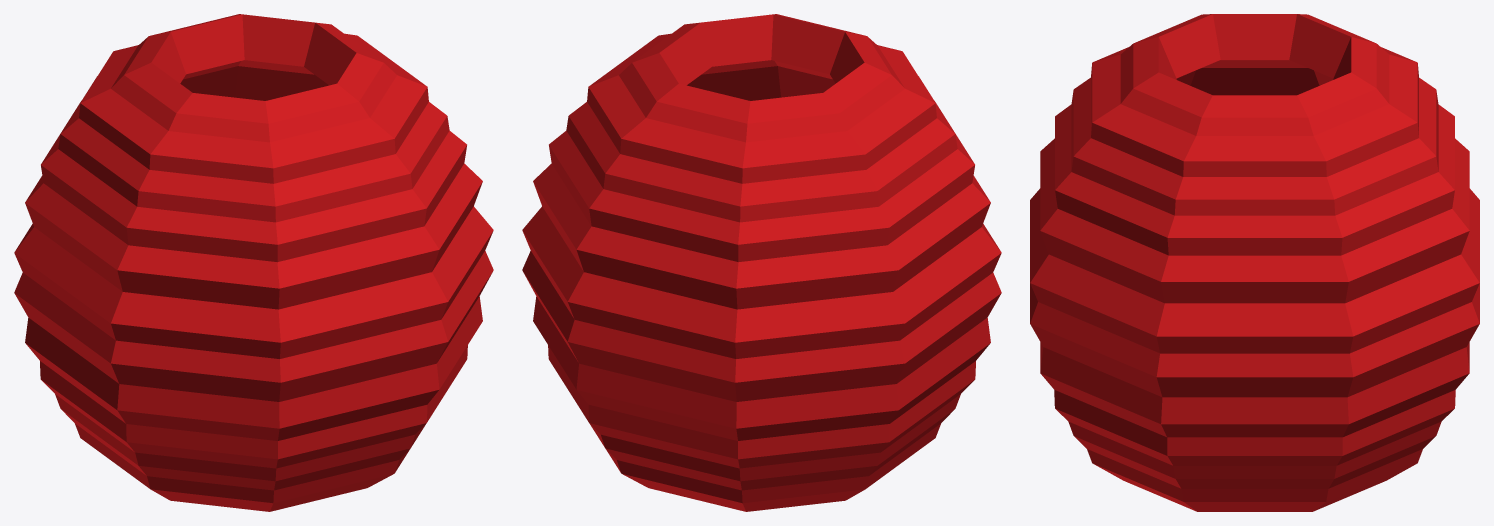
The model's file is floating lantern.fbx.
3 views of the same model, side by side, from view 1: azimuth 30°, elevation 25°; view 2: azimuth 150°, elevation 25°; view 3: azimuth 270°, elevation 25° (orthographic).
Visible parts, largest first — view 1: Cube.001; view 2: Cube.001; view 3: Cube.001.
Boxes of the visible parts, box(x1,y1,x2,y2) form: Cube.001: box(14, 14, 493, 511); Cube.001: box(522, 14, 1001, 511); Cube.001: box(1030, 14, 1479, 511).
Bounding box in the file's own units: 276 × 285 × 276.
